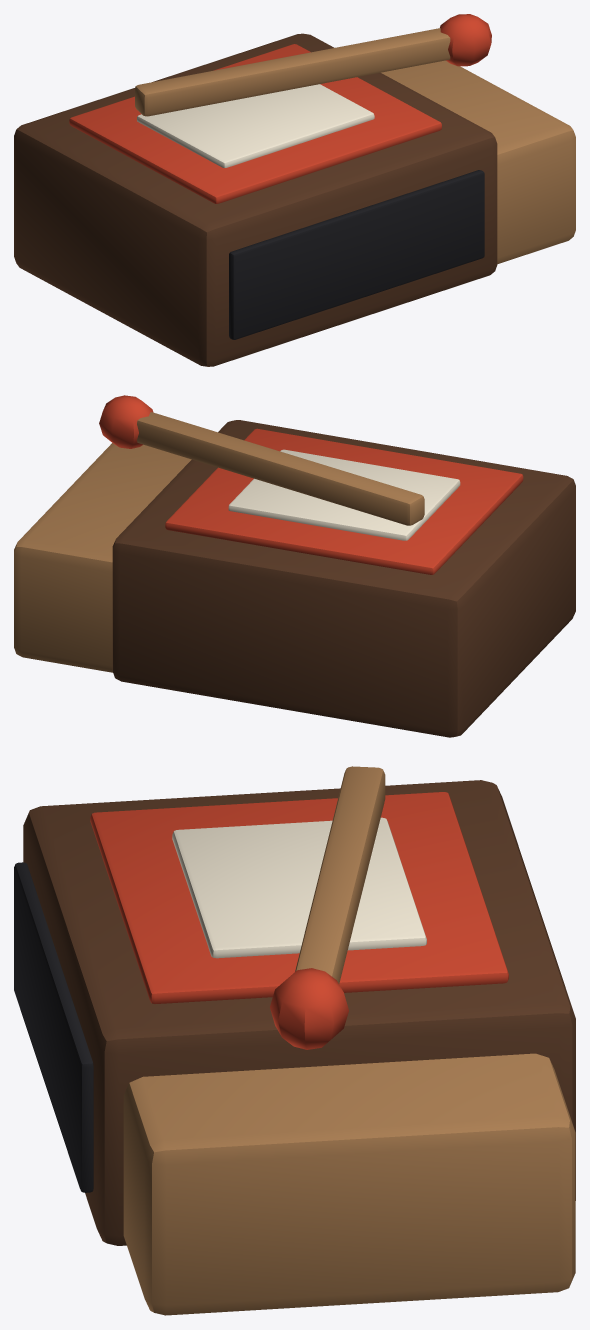
File: match_box.glb
3 renders of one model, top to bottom at view 1: azimuth 30°, elevation 25°; view 2: azimuth 150°, elevation 25°; view 3: azimuth 270°, elevation 25°, orthographic. The views are drawn at different scales.
Parts seen in each view (by area): view 1: match_box; view 2: match_box; view 3: match_box.
Boxes of the visible parts, x1,y1,x2,y2 form: match_box: (14,14,575,366); match_box: (14,395,575,737); match_box: (14,766,575,1315).
Bounding box in the file's own units: 0.0652 × 0.0278 × 0.0465.
